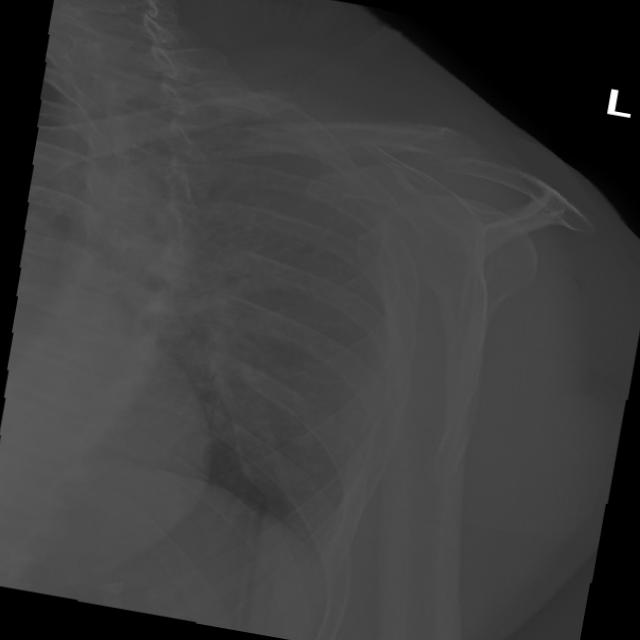shoulder fracture: (402, 386, 522, 511)
